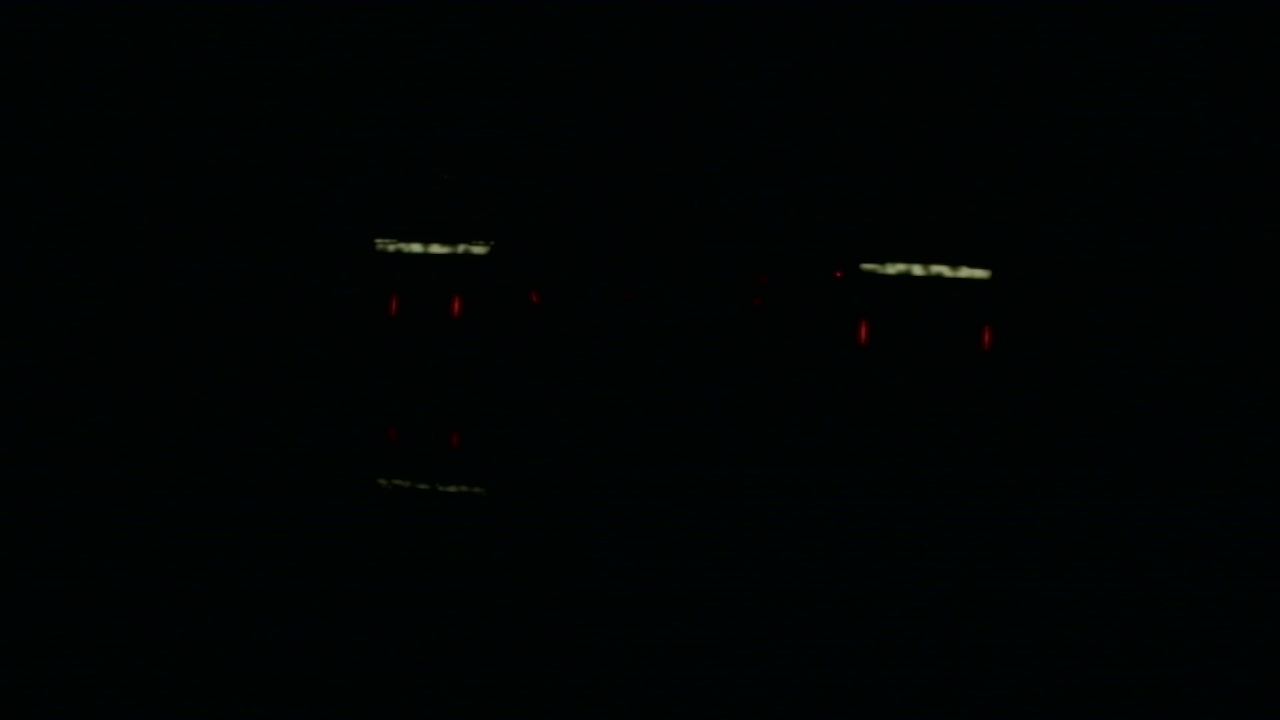lamp: (453, 291, 463, 318), (857, 318, 867, 343), (982, 317, 990, 342), (386, 296, 397, 313)
pair1: (386, 295, 460, 318)
pair2: (858, 317, 992, 347)
